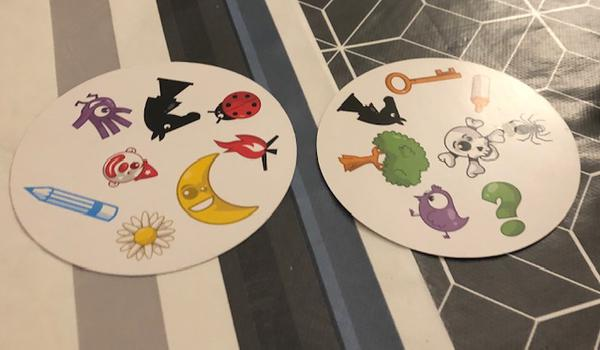araignee: (512, 107, 555, 148)
arbre: (332, 130, 430, 189)
biberon: (467, 71, 494, 114)
cheval: (136, 72, 206, 143), (336, 90, 408, 127)
cle: (381, 65, 466, 98)
clown: (95, 145, 161, 188)
coccinelle: (206, 87, 263, 124)
crayon: (21, 183, 118, 224)
dooble: (63, 91, 133, 140)
feu: (212, 130, 282, 171)
fleur: (113, 210, 180, 265)
lune: (169, 145, 265, 226), (175, 151, 260, 227)
oiseau: (408, 183, 471, 241)
point_interrogation: (480, 178, 528, 238)
tete_mort: (438, 115, 507, 182)
